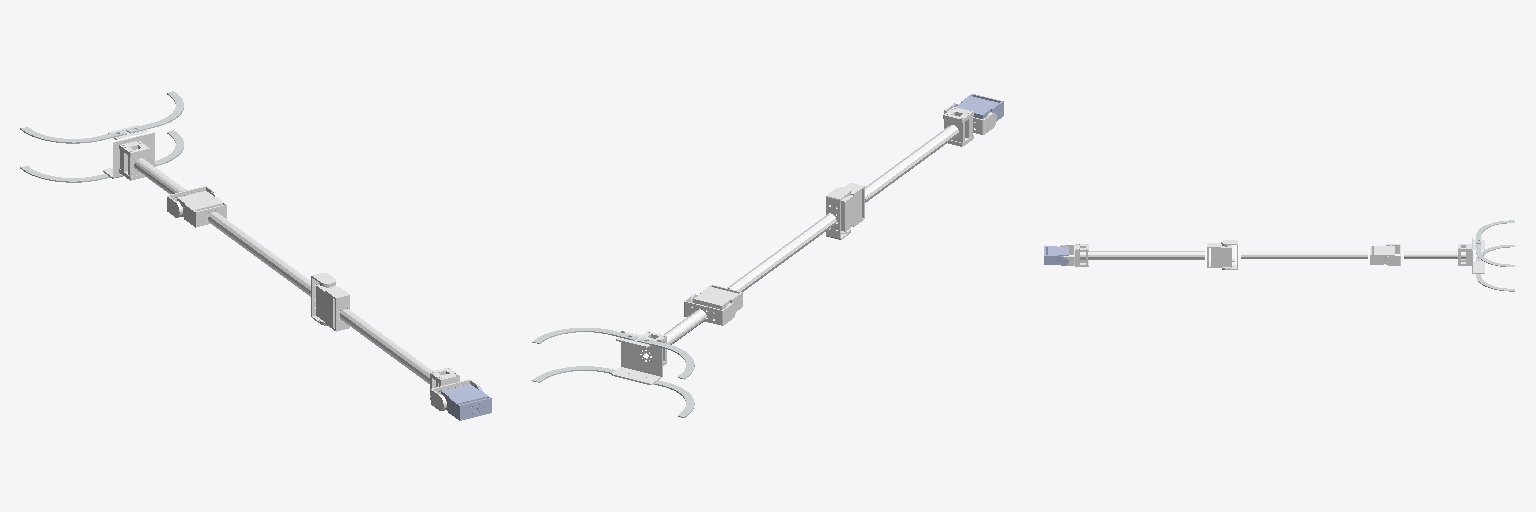
robot.urdf — big:
<robot
  name="big">
  <link
    name="base_link">
    <inertial>
      <origin
        xyz="0.00093087 0.025478 4.146E-15"
        rpy="0 0 0" />
      <mass
        value="0.037622" />
      <inertia
        ixx="7.3596E-06"
        ixy="-4.2642E-07"
        ixz="-2.2758E-17"
        iyy="7.5722E-06"
        iyz="-1.9012E-18"
        izz="1.2463E-05" />
    </inertial>
    <visual>
      <origin
        xyz="0 0 0"
        rpy="0 0 0" />
      <geometry>
        <mesh
          filename="package://big/meshes/base_link.STL" />
      </geometry>
      <material
        name="">
        <color
          rgba="0.79608 0.82353 0.93725 1" />
      </material>
    </visual>
    <collision>
      <origin
        xyz="0 0 0"
        rpy="0 0 0" />
      <geometry>
        <mesh
          filename="package://big/meshes/base_link.STL" />
      </geometry>
    </collision>
  </link>
  <link
    name="L1">
    <inertial>
      <origin
        xyz="0.20528 -0.0004219 -0.00028969"
        rpy="0 0 0" />
      <mass
        value="0.092691" />
      <inertia
        ixx="1.7736E-05"
        ixy="4.2576E-06"
        ixz="-5.5613E-06"
        iyy="0.0012168"
        iyz="1.1329E-08"
        izz="0.0012197" />
    </inertial>
    <visual>
      <origin
        xyz="0 0 0"
        rpy="0 0 0" />
      <geometry>
        <mesh
          filename="package://big/meshes/L1.STL" />
      </geometry>
      <material
        name="">
        <color
          rgba="1 1 1 1" />
      </material>
    </visual>
    <collision>
      <origin
        xyz="0 0 0"
        rpy="0 0 0" />
      <geometry>
        <mesh
          filename="package://big/meshes/L1.STL" />
      </geometry>
    </collision>
  </link>
  <joint
    name="J1"
    type="revolute">
    <origin
      xyz="-0.00085 0.037 0"
      rpy="1.5708 0 1.5708" />
    <parent
      link="base_link" />
    <child
      link="L1" />
    <axis
      xyz="0 0 1" />
    <limit
      lower="-2.335"
      upper="2.335"
      effort="0"
      velocity="0" />
  </joint>
  <link
    name="L2">
    <inertial>
      <origin
        xyz="-0.20528 -0.0004219 -0.00028969"
        rpy="0 0 0" />
      <mass
        value="0.092691" />
      <inertia
        ixx="1.7736E-05"
        ixy="-4.2576E-06"
        ixz="5.5613E-06"
        iyy="0.0012168"
        iyz="1.1329E-08"
        izz="0.0012197" />
    </inertial>
    <visual>
      <origin
        xyz="0 0 0"
        rpy="0 0 0" />
      <geometry>
        <mesh
          filename="package://big/meshes/L2.STL" />
      </geometry>
      <material
        name="">
        <color
          rgba="1 1 1 1" />
      </material>
    </visual>
    <collision>
      <origin
        xyz="0 0 0"
        rpy="0 0 0" />
      <geometry>
        <mesh
          filename="package://big/meshes/L2.STL" />
      </geometry>
    </collision>
  </link>
  <joint
    name="J2"
    type="revolute">
    <origin
      xyz="0.315 0.00075 0"
      rpy="-1.5708 -1.4001E-14 -3.1416" />
    <parent
      link="L1" />
    <child
      link="L2" />
    <axis
      xyz="0 0 -1" />
    <limit
      lower="-2.335"
      upper="2.335"
      effort="0"
      velocity="0" />
  </joint>
  <link
    name="L3">
    <inertial>
      <origin
        xyz="-0.097054 -0.00027249 -0.00076619"
        rpy="0 0 0" />
      <mass
        value="0.05496" />
      <inertia
        ixx="1.6417E-05"
        ixy="-1.1261E-06"
        ixz="-7.3551E-06"
        iyy="0.0002031"
        iyz="-8.7367E-08"
        izz="0.00020426" />
    </inertial>
    <visual>
      <origin
        xyz="0 0 0"
        rpy="0 0 0" />
      <geometry>
        <mesh
          filename="package://big/meshes/L3.STL" />
      </geometry>
      <material
        name="">
        <color
          rgba="1 1 1 1" />
      </material>
    </visual>
    <collision>
      <origin
        xyz="0 0 0"
        rpy="0 0 0" />
      <geometry>
        <mesh
          filename="package://big/meshes/L3.STL" />
      </geometry>
    </collision>
  </link>
  <joint
    name="J3"
    type="revolute">
    <origin
      xyz="-0.315 0.00075 0"
      rpy="-1.5708 1.0592E-14 2.0984E-14" />
    <parent
      link="L2" />
    <child
      link="L3" />
    <axis
      xyz="0 0 -1" />
    <limit
      lower="-2.335"
      upper="2.335"
      effort="0"
      velocity="0" />
  </joint>
  <link
    name="HL1">
    <inertial>
      <origin
        xyz="-0.020037 -0.053431 -0.025"
        rpy="0 0 0" />
      <mass
        value="0.011248" />
      <inertia
        ixx="1.8141E-05"
        ixy="-6.4654E-06"
        ixz="-3.171E-13"
        iyy="1.299E-05"
        iyz="-1.9256E-13"
        izz="1.621E-05" />
    </inertial>
    <visual>
      <origin
        xyz="0 0 0"
        rpy="0 0 0" />
      <geometry>
        <mesh
          filename="package://big/meshes/HL1.STL" />
      </geometry>
      <material
        name="">
        <color
          rgba="0.89804 0.91765 0.92941 1" />
      </material>
    </visual>
    <collision>
      <origin
        xyz="0 0 0"
        rpy="0 0 0" />
      <geometry>
        <mesh
          filename="package://big/meshes/HL1.STL" />
      </geometry>
    </collision>
  </link>
  <joint
    name="HJ1"
    type="revolute">
    <origin
      xyz="-0.17225 0.025 0.0074"
      rpy="-1.5708 7.0878E-15 -1.0474E-14" />
    <parent
      link="L3" />
    <child
      link="HL1" />
    <axis
      xyz="0 0 1" />
    <limit
      lower="-0.98"
      upper="0"
      effort="0"
      velocity="0" />
  </joint>
  <link
    name="HL2">
    <inertial>
      <origin
        xyz="-0.020037 0.053431 -0.025"
        rpy="0 0 0" />
      <mass
        value="0.011248" />
      <inertia
        ixx="1.8141E-05"
        ixy="6.4654E-06"
        ixz="3.171E-13"
        iyy="1.299E-05"
        iyz="-1.9256E-13"
        izz="1.621E-05" />
    </inertial>
    <visual>
      <origin
        xyz="0 0 0"
        rpy="0 0 0" />
      <geometry>
        <mesh
          filename="package://big/meshes/HL2.STL" />
      </geometry>
      <material
        name="">
        <color
          rgba="0.89804 0.91765 0.92941 1" />
      </material>
    </visual>
    <collision>
      <origin
        xyz="0 0 0"
        rpy="0 0 0" />
      <geometry>
        <mesh
          filename="package://big/meshes/HL2.STL" />
      </geometry>
    </collision>
  </link>
  <joint
    name="HJ2"
    type="revolute">
    <origin
      xyz="-0.17225 0.025 -0.0166"
      rpy="-1.5708 7.0878E-15 -1.0474E-14" />
    <parent
      link="L3" />
    <child
      link="HL2" />
    <axis
      xyz="0 0 1" />
    <limit
      lower="0"
      upper="0.98"
      effort="0"
      velocity="0" />
  </joint>
  <link
    name="H" />
  <joint
    name="HJ"
    type="fixed">
    <origin
      xyz="-0.17225 0.025 -0.0166"
      rpy="-1.5708 7.0878E-15 -1.0474E-14" />
    <parent
      link="L3" />
    <child
      link="H" />
    <axis
      xyz="0 0 0" />
  </joint>
</robot>

--- What the picture shows (computed from the rendered views, not written in the file) ---
3 views of the same robot in one strip: view 1: azimuth 30°, elevation 25°; view 2: azimuth 150°, elevation 25°; view 3: azimuth 270°, elevation 25° (orthographic).
Model big with 7 links and 6 joints (5 revolute, 1 fixed), rooted at base_link, posed every joint at zero.
Links seen in each view (by area): view 1: L1, L2, L3, base_link, HL1, HL2; view 2: L1, L3, L2, HL2, HL1, base_link; view 3: L1, L2, L3.
Boxes of the visible links, x1,y1,x2,y2 form: L1: (316,285,478,410); L2: (177,191,335,322); L3: (103,125,215,217); base_link: (441,384,491,420); HL1: (20,127,126,182); HL2: (126,91,183,166); L1: (837,104,996,233); L3: (611,295,735,384); L2: (690,187,850,312); HL2: (532,328,637,382); HL1: (637,338,694,417); base_link: (952,94,1003,121); L1: (1060,243,1234,269); L2: (1221,240,1394,269); L3: (1386,238,1484,273).
Bounding box of the posed robot: 0.2118 × 0.9103 × 0.0555 m (x, y, z).
Meshes: 6 distinct files referenced, 6 mesh visuals loaded (6 binary STL).